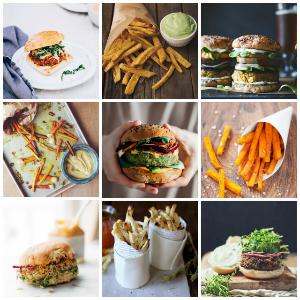cheeseburger_475cal: (208, 224, 296, 290), (7, 229, 91, 289), (118, 122, 190, 189), (22, 28, 74, 74)
fries_350cal: (207, 116, 289, 199)
